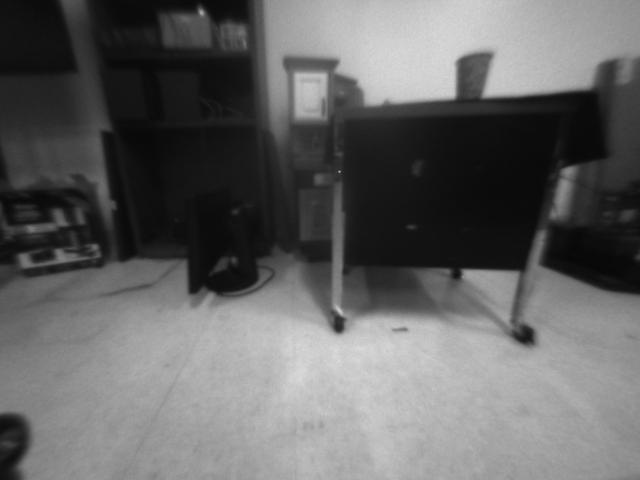coffee_cup: (451, 49, 494, 101)
